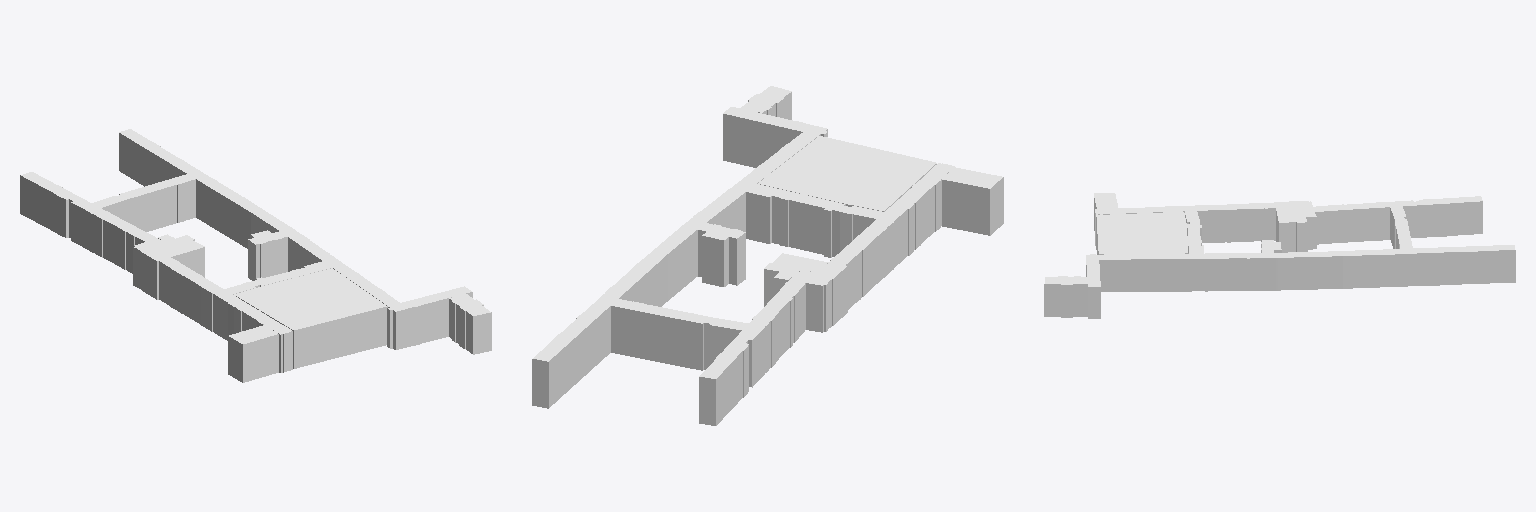
robot.urdf — environment:
<?xml version="1.0"?>
<robot name="environment">

  <!-- ========== basic link ========== -->
  <link name="origin_position"/>
  
  <!-- ========== environment ========== -->
  <joint name="ceil_joint" type="fixed">
    <parent link="origin_position"/>
    <child link="ceil"/>
    <origin xyz="0 0 0" rpy="0 0 0"/>
  </joint>
  <joint name="floor_joint" type="fixed">
    <parent link="origin_position"/>
    <child link="floor"/>
    <origin xyz="0 0 0" rpy="0 0 0"/>
  </joint>
  <joint name="wall_joint" type="fixed">
    <parent link="origin_position"/>
    <child link="wall"/>
    <origin xyz="0 0 0" rpy="0 0 0"/>
  </joint>
  <link name="ceil">
    <visual>
      <geometry>
        <mesh filename="package://tms_rc_qurin_support/models/Contours3_v3_ceil.dae"/>
      </geometry>
      <origin rpy="0 0 0" xyz="0 0 0"/>
      <material name="alpha05">
        <color rgba="1.0 1.0 1.0 0.8"/>
      </material>
    </visual>
  </link>
  <link name="floor">
    <visual>
      <geometry>
        <mesh filename="package://tms_rc_qurin_support/models/Contours3_v3_floor.dae"/>
      </geometry>
      <origin rpy="0 0 0" xyz="0 0 0"/>
      <material name="alpha05">
        <color rgba="1.0 1.0 1.0 0.8"/>
      </material>
    </visual>
  </link>
  <link name="wall">
    <visual>
      <geometry>
        <mesh filename="package://tms_rc_qurin_support/models/Contours3_v3_wall.dae"/>
      </geometry>
      <origin rpy="0 0 0" xyz="0 0 0"/>
      <material name="alpha05">
        <color rgba="1.0 1.0 1.0 0.8"/>
      </material>
    </visual>
  </link>
</robot>

--- Render facts (derived) ---
The picture shows the robot from 3 angles, left to right: view 1: azimuth 30°, elevation 25°; view 2: azimuth 150°, elevation 25°; view 3: azimuth 270°, elevation 25°; orthographic projection.
Model environment with 4 links and 3 joints (3 fixed), rooted at origin_position, posed every joint at zero.
Links seen in each view (by area): view 1: wall, ceil; view 2: wall, ceil; view 3: wall, ceil.
Link boxes in pixels (left/top/right/bottom): wall: left=20, top=133, right=491, bottom=382; ceil: left=21, top=129, right=490, bottom=343; wall: left=532, top=92, right=1003, bottom=425; ceil: left=533, top=86, right=1002, bottom=378; wall: left=1044, top=198, right=1515, bottom=318; ceil: left=1045, top=193, right=1514, bottom=286.
Bounding box of the posed robot: 37.17 × 78.45 × 6 m (x, y, z).
3 mesh visuals loaded from 3 distinct referenced files (3 Collada DAE).